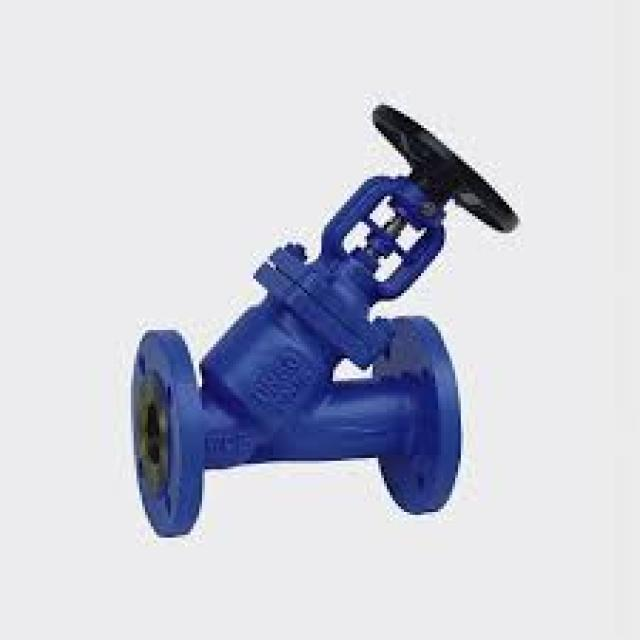Wheel Handle Valve Threaded: (342, 88, 539, 254)
